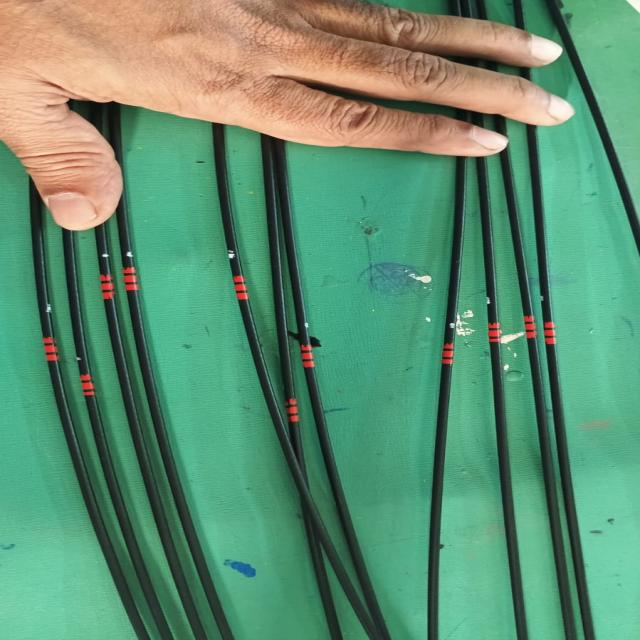red: (42, 336, 61, 362), (230, 276, 250, 300), (122, 267, 141, 291), (99, 274, 117, 299), (522, 315, 538, 341), (298, 345, 316, 368), (486, 323, 504, 345), (79, 375, 98, 395), (284, 399, 300, 422), (544, 321, 558, 345), (444, 342, 456, 366)
